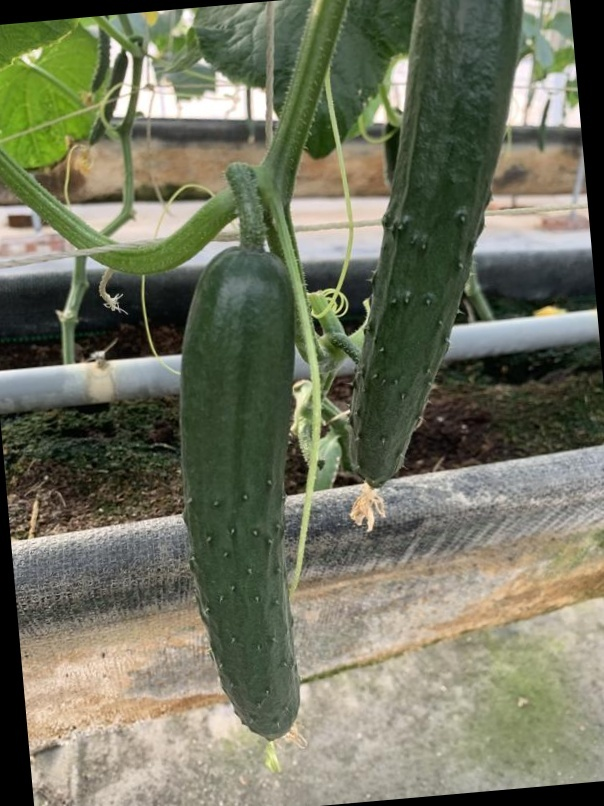mature: (343, 0, 522, 496), (168, 236, 307, 756)
